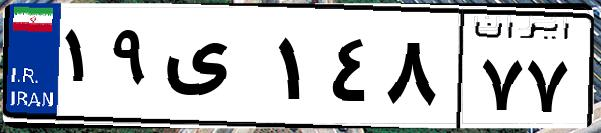1: (270, 28, 330, 110), (57, 26, 110, 100)
4: (330, 28, 385, 110)
7: (475, 38, 525, 113), (525, 38, 570, 115)
8: (385, 28, 445, 110)
9: (110, 28, 158, 98)
ی: (158, 20, 270, 120)
